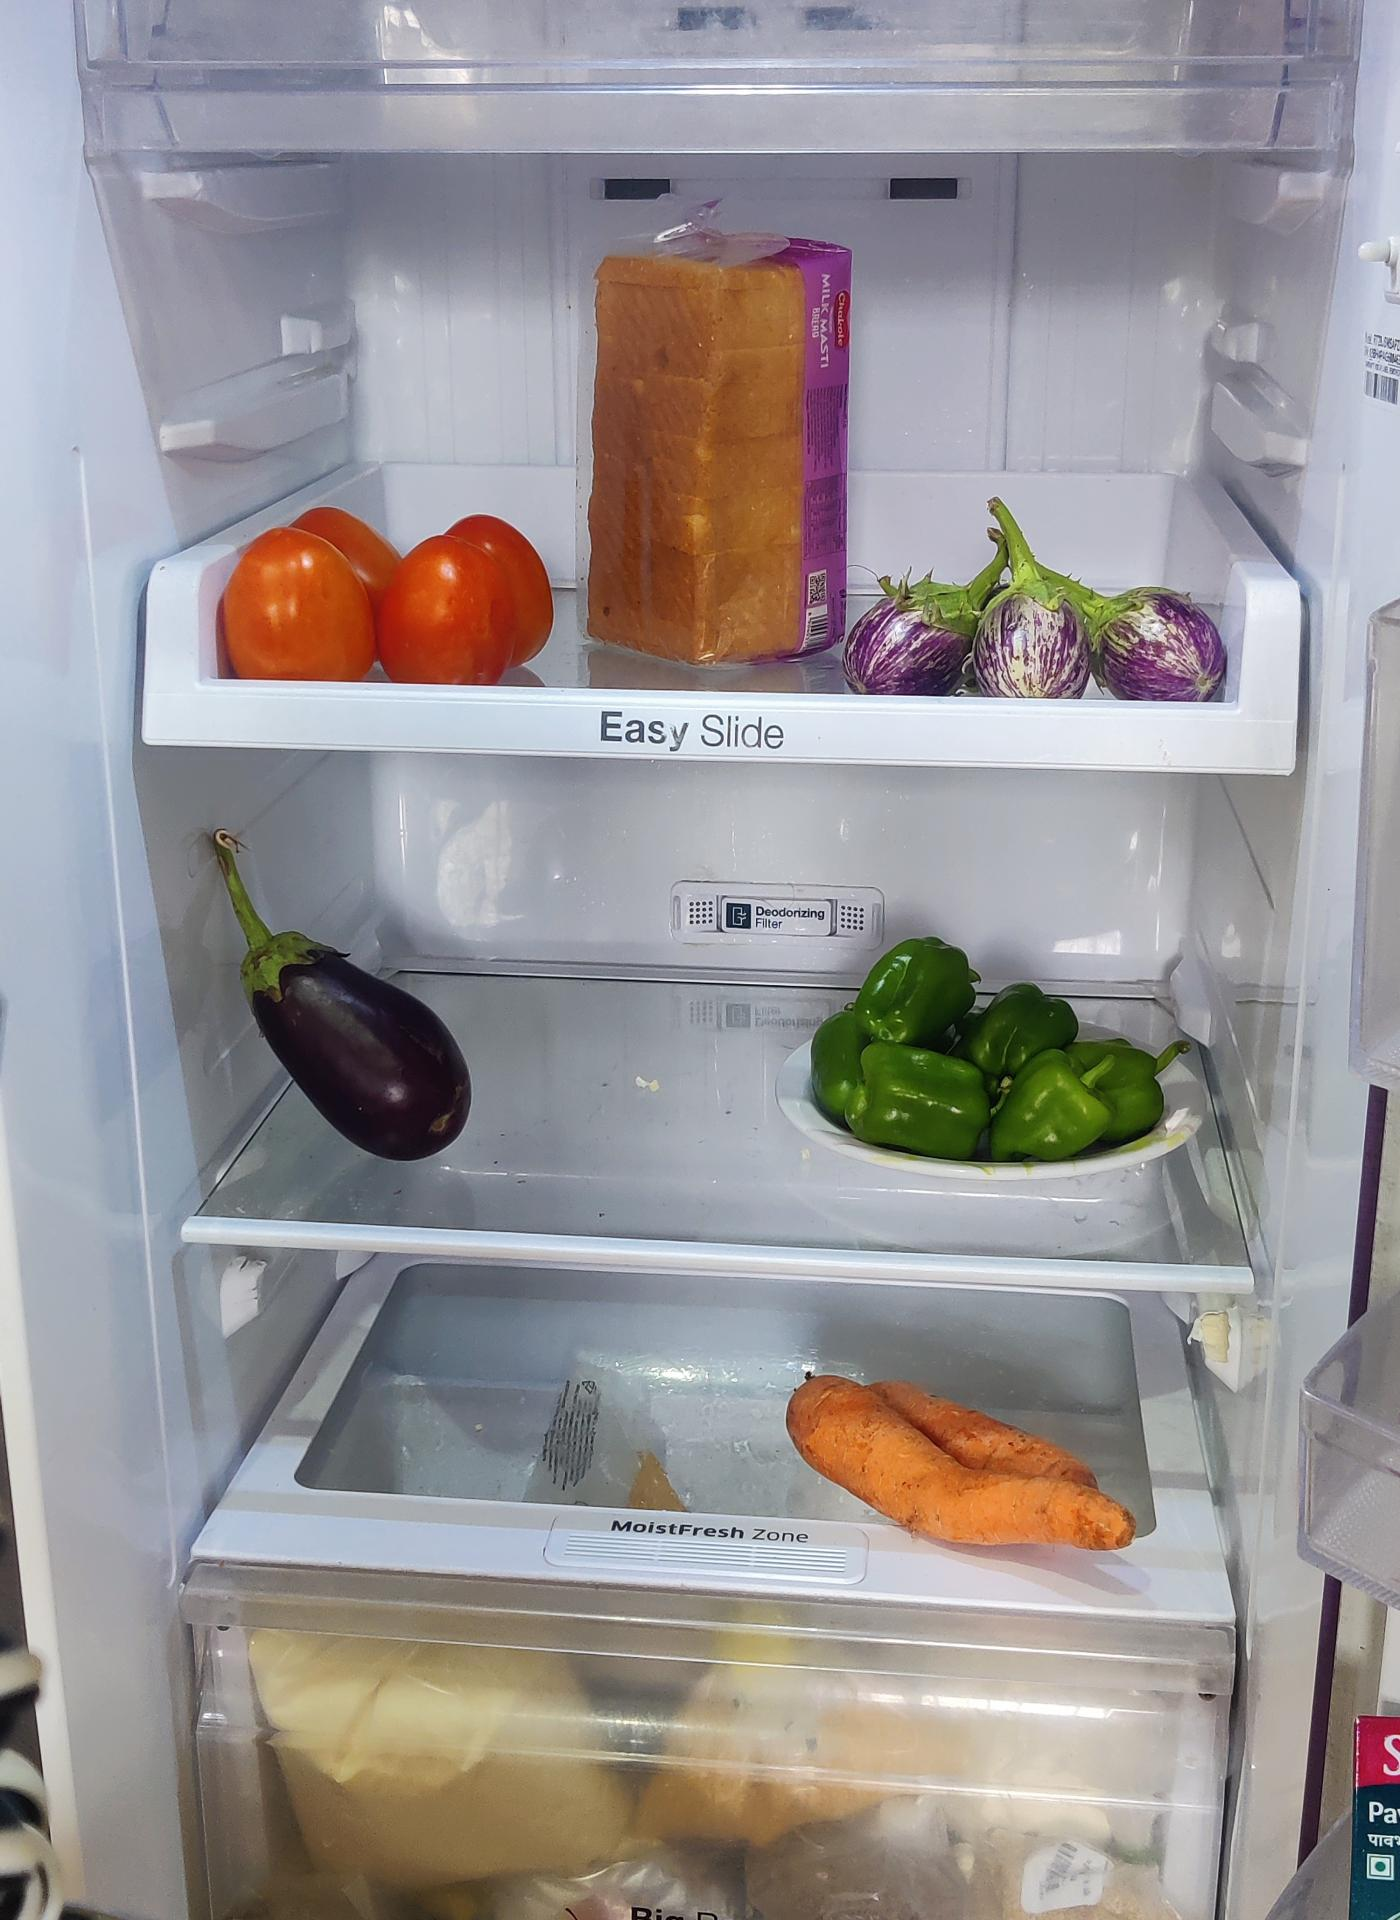bread: (586, 224, 866, 666)
brinjal: (225, 899, 474, 1161), (854, 529, 1235, 696)
capsicum: (802, 935, 1188, 1166)
carrots: (786, 1371, 1142, 1561)
tomato: (215, 513, 559, 693)
